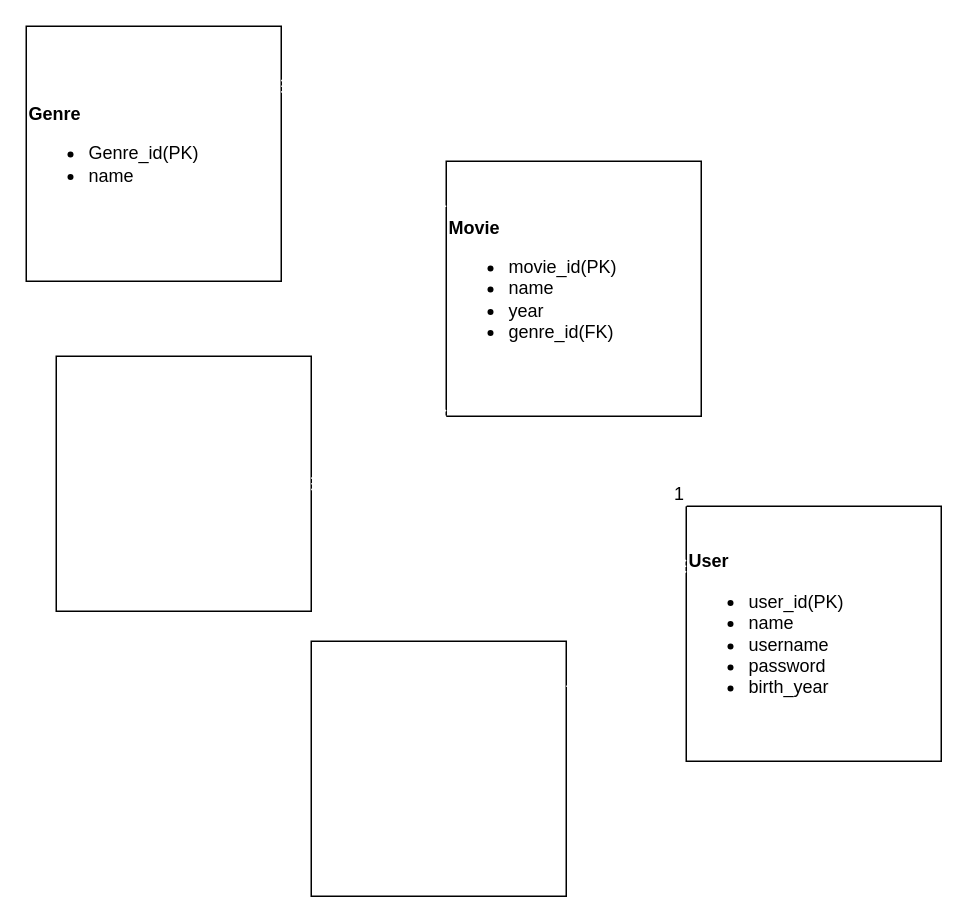
Some shapes in this 968 by 923 pixel diagram are drawn without their labels. Here are the shapes that lost their labels. From the top down, the centre of each, then its label:
At (183,483): "FavoriteMovies user_id(FK) movie_id(FK)".
At (438,768): "Review Review_id(PK) user_id(FK) movie_id(FK) stars review_text".
